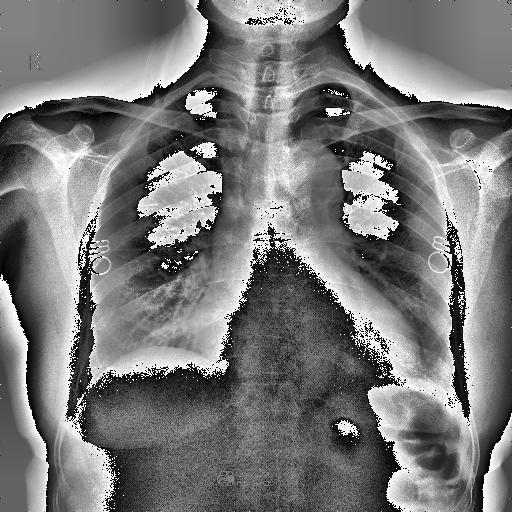0- Aortic enlargement: (280, 142, 344, 234), (287, 138, 343, 214), (283, 140, 342, 210)
3- Cardiomegaly: (192, 295, 422, 380), (197, 302, 429, 376), (192, 312, 422, 380)
